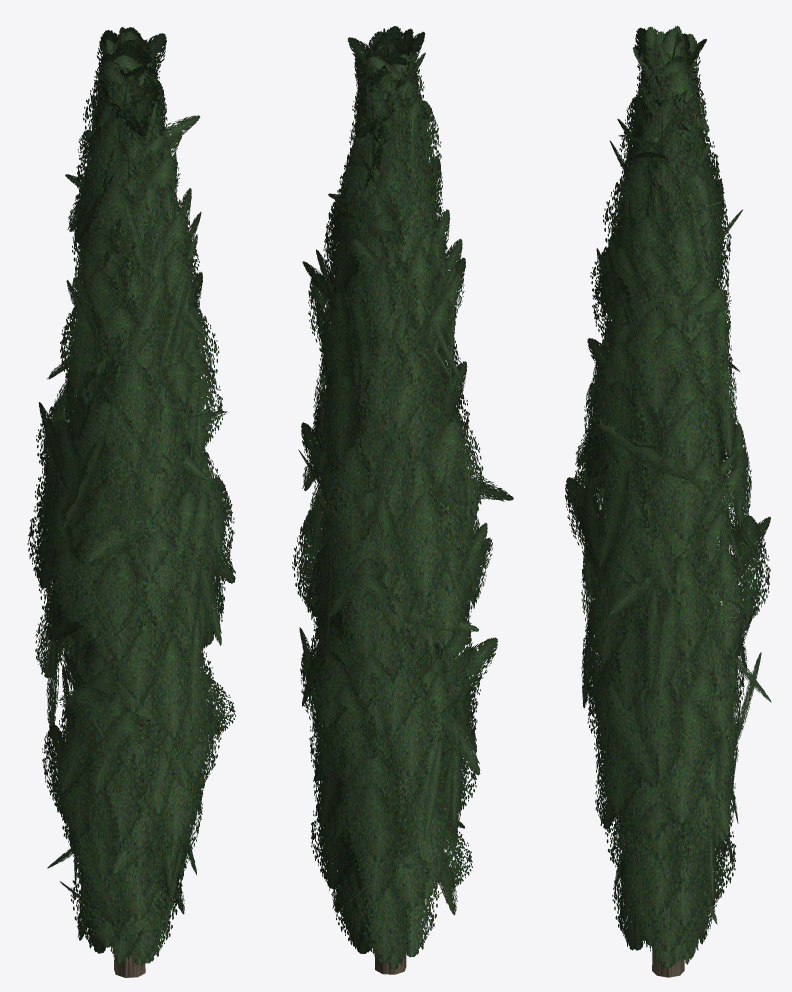
File: Tree_Cypress_2.gltf
3 views of the same model, side by side, from view 1: azimuth 30°, elevation 25°; view 2: azimuth 150°, elevation 25°; view 3: azimuth 270°, elevation 25° (orthographic).
Parts seen in each view (by area): view 1: Tree_Cypress_2; view 2: Tree_Cypress_2; view 3: Tree_Cypress_2.
Boxes of the visible parts, <box> form: Tree_Cypress_2: <box>27,27,235,977</box>; Tree_Cypress_2: <box>292,26,513,974</box>; Tree_Cypress_2: <box>565,25,771,977</box>.
Size of the model in its own units: 3.74 by 16.18 by 3.57.
Materials: 2 (2 with a texture image).
